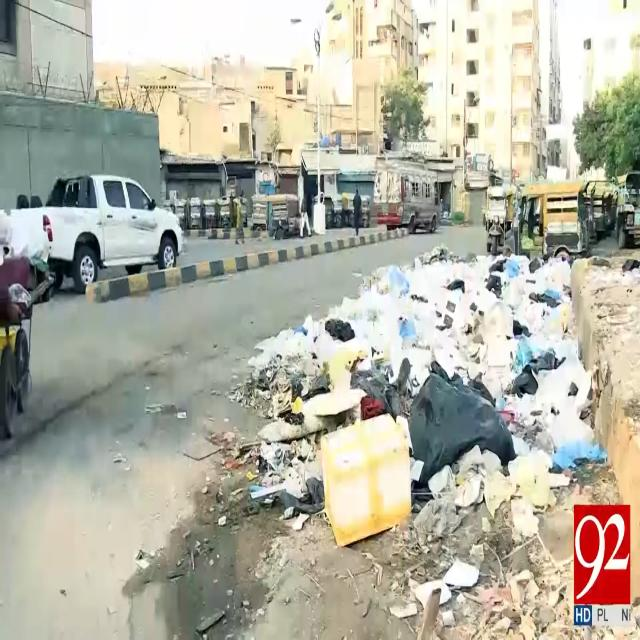high trash: (240, 247, 638, 639)
